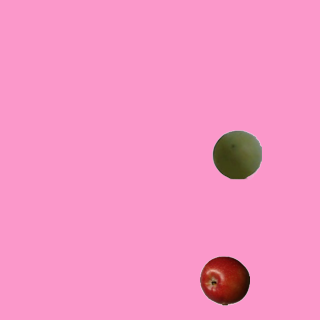Apple Braeburn: (199, 255, 249, 305)
Grape White 4: (211, 129, 261, 179)
